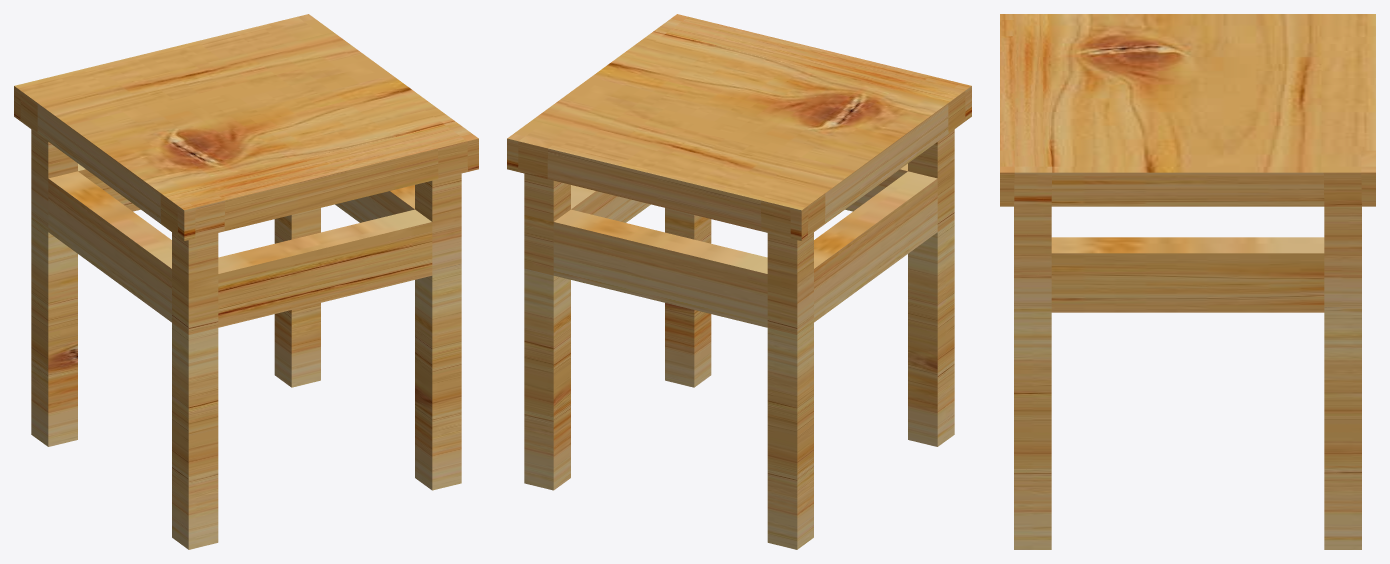
Rendered from tabyretka.fbx.
3 renders of one model, left to right at view 1: azimuth 30°, elevation 25°; view 2: azimuth 150°, elevation 25°; view 3: azimuth 270°, elevation 25°, orthographic. The views are drawn at different scales.
Parts seen in each view (by area): view 1: Cube; view 2: Cube; view 3: Cube.
Part boxes in pixels (<box>): Cube: <box>14,14,478,549</box>; Cube: <box>507,14,971,549</box>; Cube: <box>1000,14,1375,549</box>.
Size of the model in its own units: 0.4 by 0.45 by 0.4.
